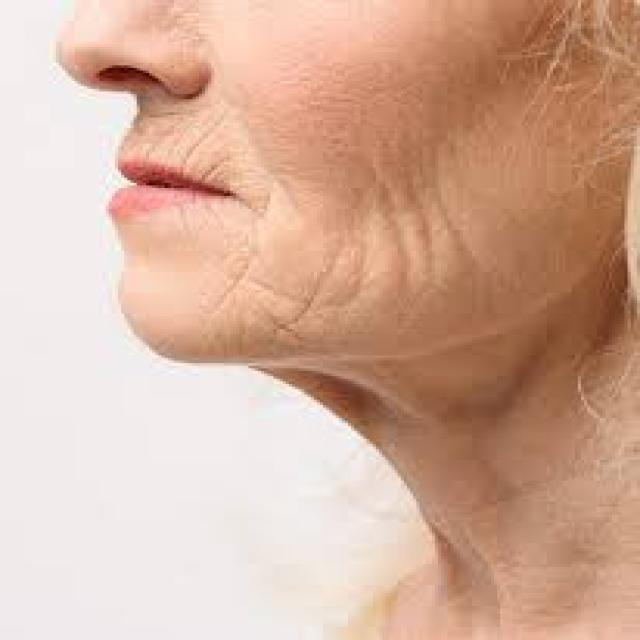Wrinkles: (214, 166, 454, 348), (431, 142, 485, 269)
